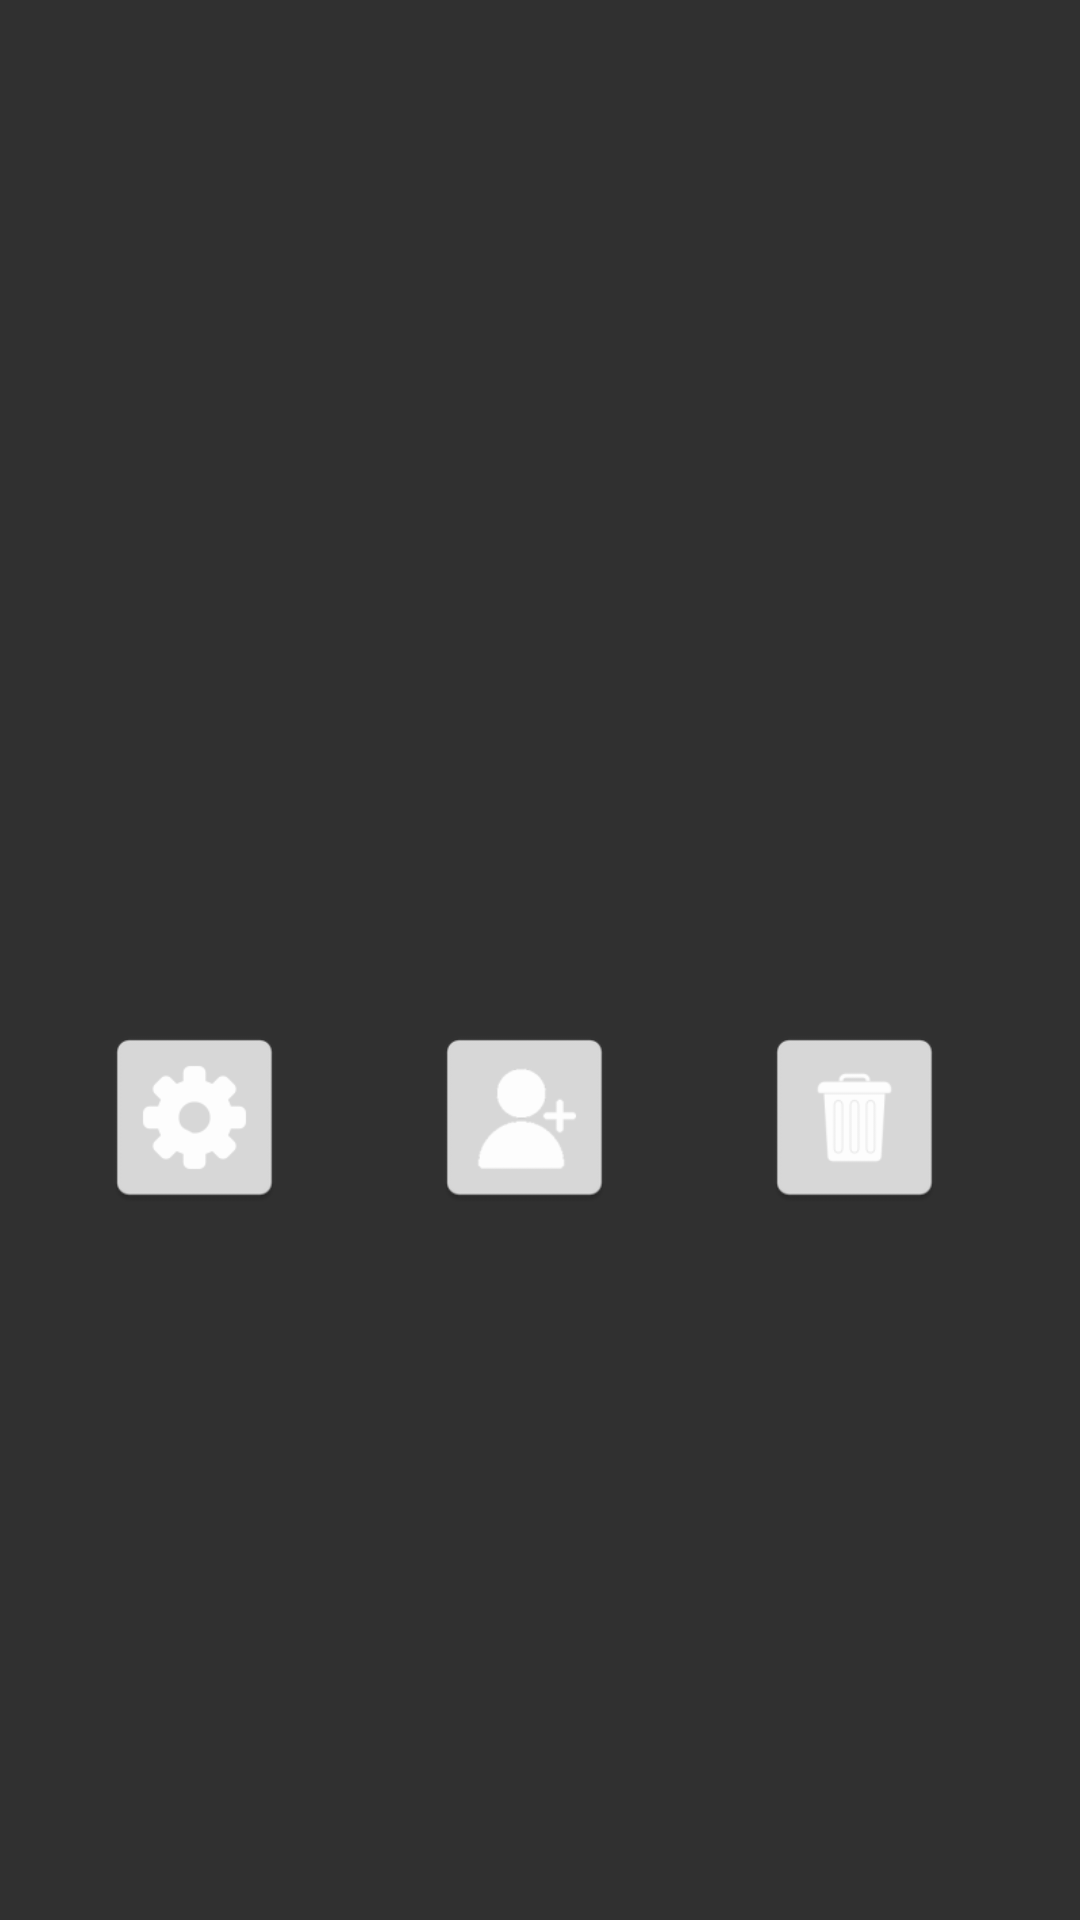

Screen size 1080*1920. Icon name, then its center in pixels as point (x, y):
add user: point (524, 1117)
settings: point (194, 1117)
trashcan: point (854, 1117)
